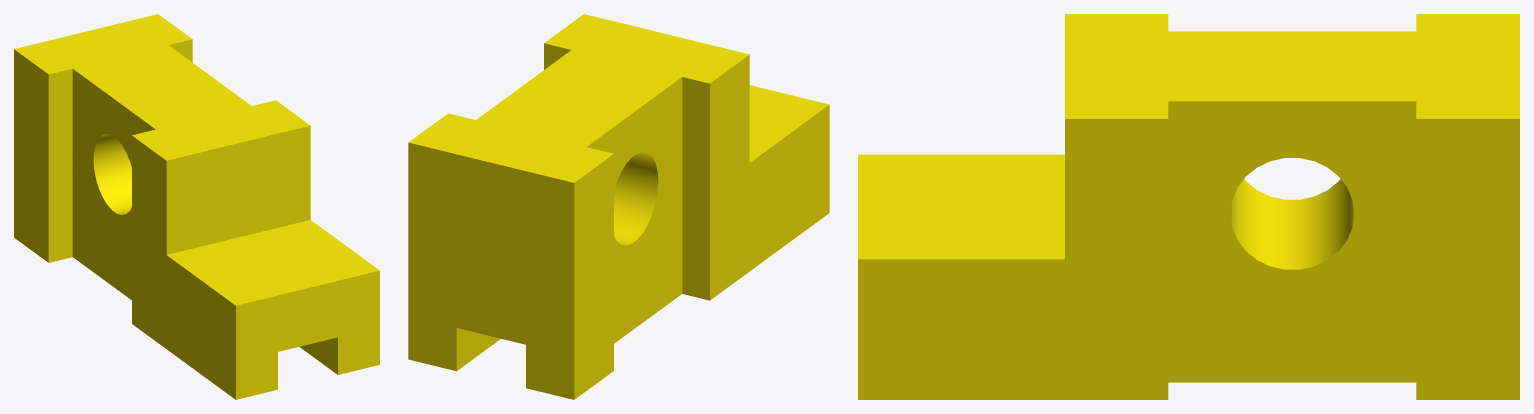
Rendered from modelo_didático_19.glb.
The picture shows the model from 3 angles, left to right: view 1: azimuth 30°, elevation 25°; view 2: azimuth 150°, elevation 25°; view 3: azimuth 270°, elevation 25°; orthographic projection. The views are drawn at different scales.
Parts seen in each view (by area): view 1: Modelo didatico 19.SLDPRT; view 2: Modelo didatico 19.SLDPRT; view 3: Modelo didatico 19.SLDPRT.
Part boxes in pixels (x1,y1,x2,y2): Modelo didatico 19.SLDPRT: (14, 14, 379, 399); Modelo didatico 19.SLDPRT: (408, 14, 829, 399); Modelo didatico 19.SLDPRT: (858, 14, 1519, 399).
Size of the model in its own units: 0.024 by 0.03 by 0.064.
